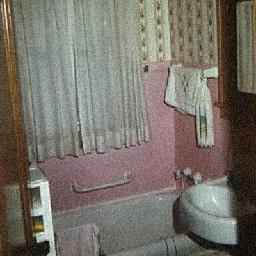Lavamanos: (178, 168, 246, 246)
